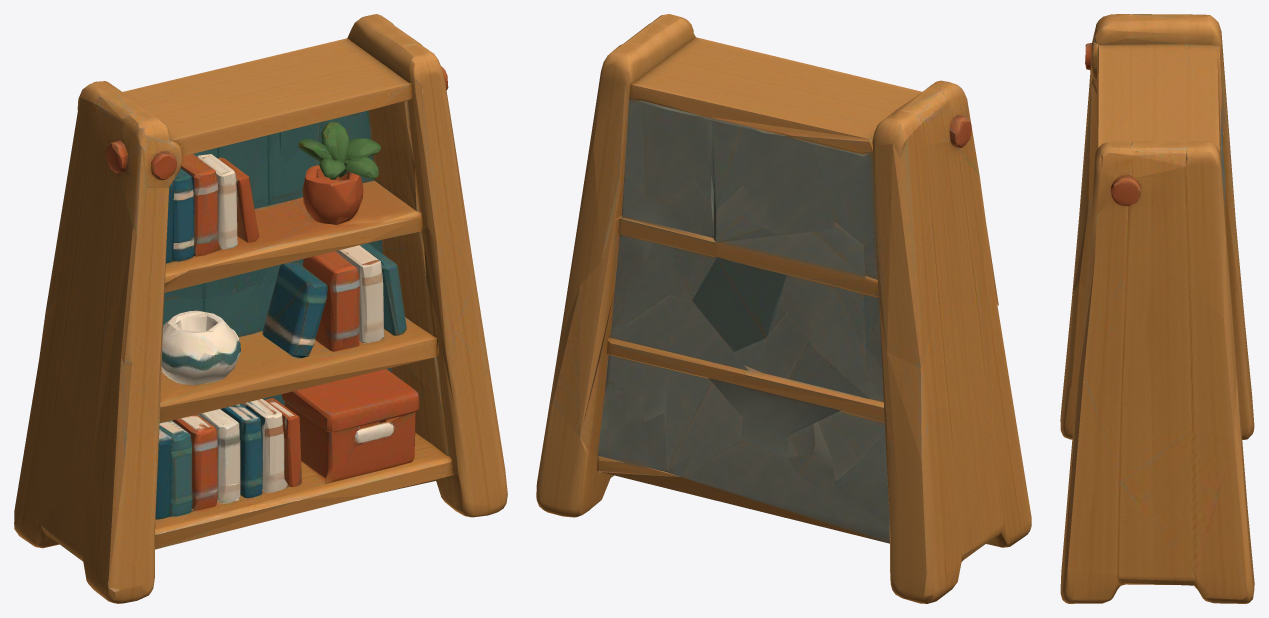
The model's file is bookcase.glb.
The picture shows the model from 3 angles, left to right: view 1: azimuth 30°, elevation 25°; view 2: azimuth 150°, elevation 25°; view 3: azimuth 270°, elevation 25°; orthographic projection. The views are drawn at different scales.
Visible parts, largest first — view 1: Mesh_0; view 2: Mesh_0; view 3: Mesh_0.
Boxes of the visible parts, box(x1,y1,x2,y2) form: Mesh_0: box(14, 14, 507, 603); Mesh_0: box(536, 14, 1031, 603); Mesh_0: box(1060, 14, 1254, 603).
Size of the model in its own units: 0.9208 by 1 by 0.4043.
1 material, 1 textured.
